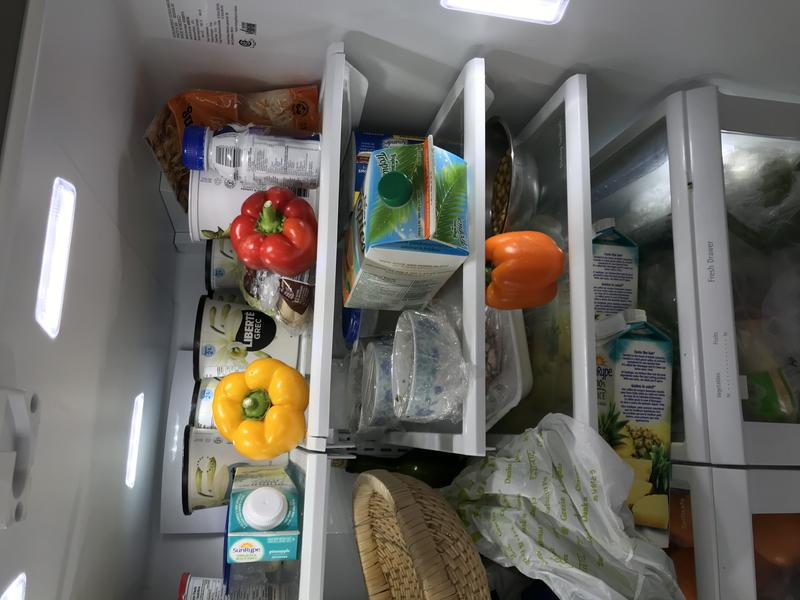orange_pepper: (469, 223, 564, 313)
red_pepper: (226, 183, 323, 283)
yellow_pepper: (206, 356, 312, 463)
